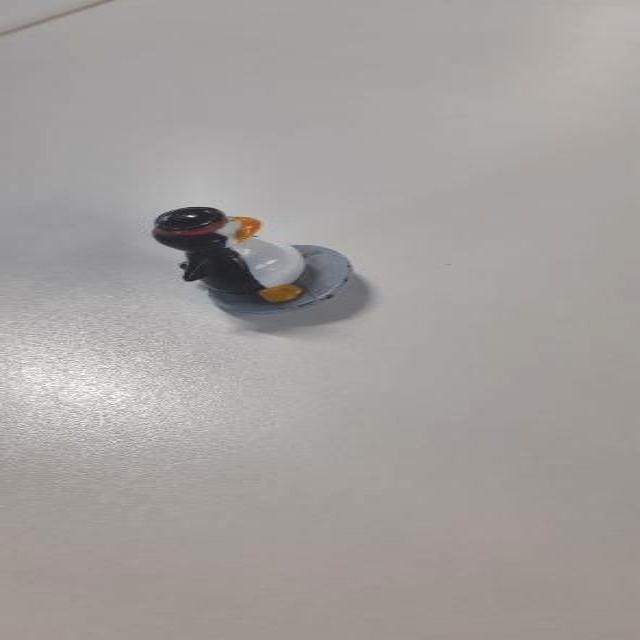Penguin: (143, 206, 377, 322)
